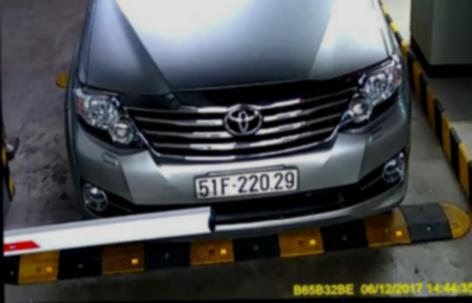License_Plate: (196, 169, 300, 197)
